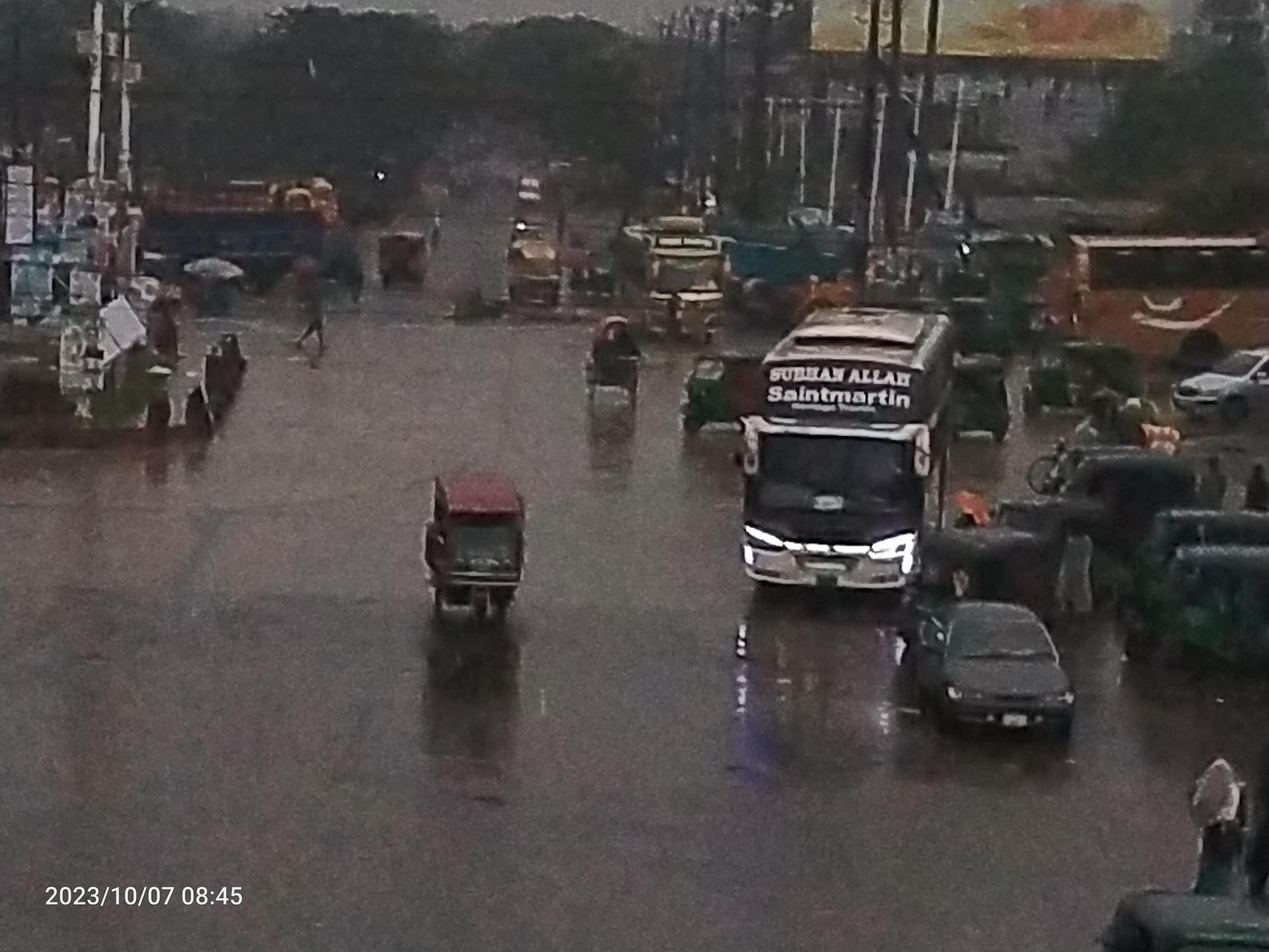Bus: (724, 288, 967, 624), (1023, 202, 1269, 402), (598, 188, 749, 359)
Car: (884, 568, 1094, 777), (382, 444, 557, 648), (565, 296, 662, 421), (490, 220, 577, 311)
Truck: (97, 164, 341, 315)
